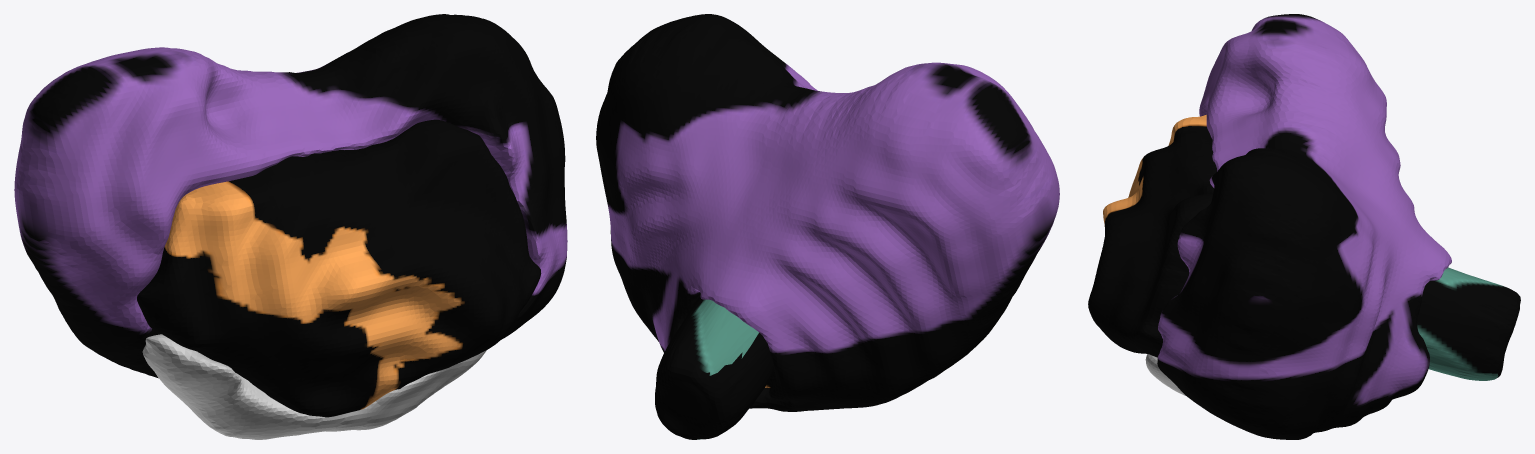
Rendered from WholeProstate.obj.
3 views of the same model, side by side, from view 1: azimuth 30°, elevation 25°; view 2: azimuth 150°, elevation 25°; view 3: azimuth 270°, elevation 25° (orthographic). The views are drawn at different scales.
Visible parts, largest first — view 1: obj0, obj3, obj1; view 2: obj0, obj2; view 3: obj0, obj3, obj2, obj1.
Part boxes in pixels (bbox=[...]): obj0: bbox=[14, 14, 567, 378]; obj3: bbox=[137, 119, 541, 417]; obj1: bbox=[142, 334, 486, 439]; obj0: bbox=[596, 14, 1059, 411]; obj2: bbox=[655, 295, 774, 439]; obj0: bbox=[1157, 14, 1451, 439]; obj3: bbox=[1088, 114, 1217, 357]; obj2: bbox=[1417, 267, 1520, 380]; obj1: bbox=[1145, 354, 1185, 395].
Bounding box in the file's own units: 21.63 × 15.5 × 19.78.
